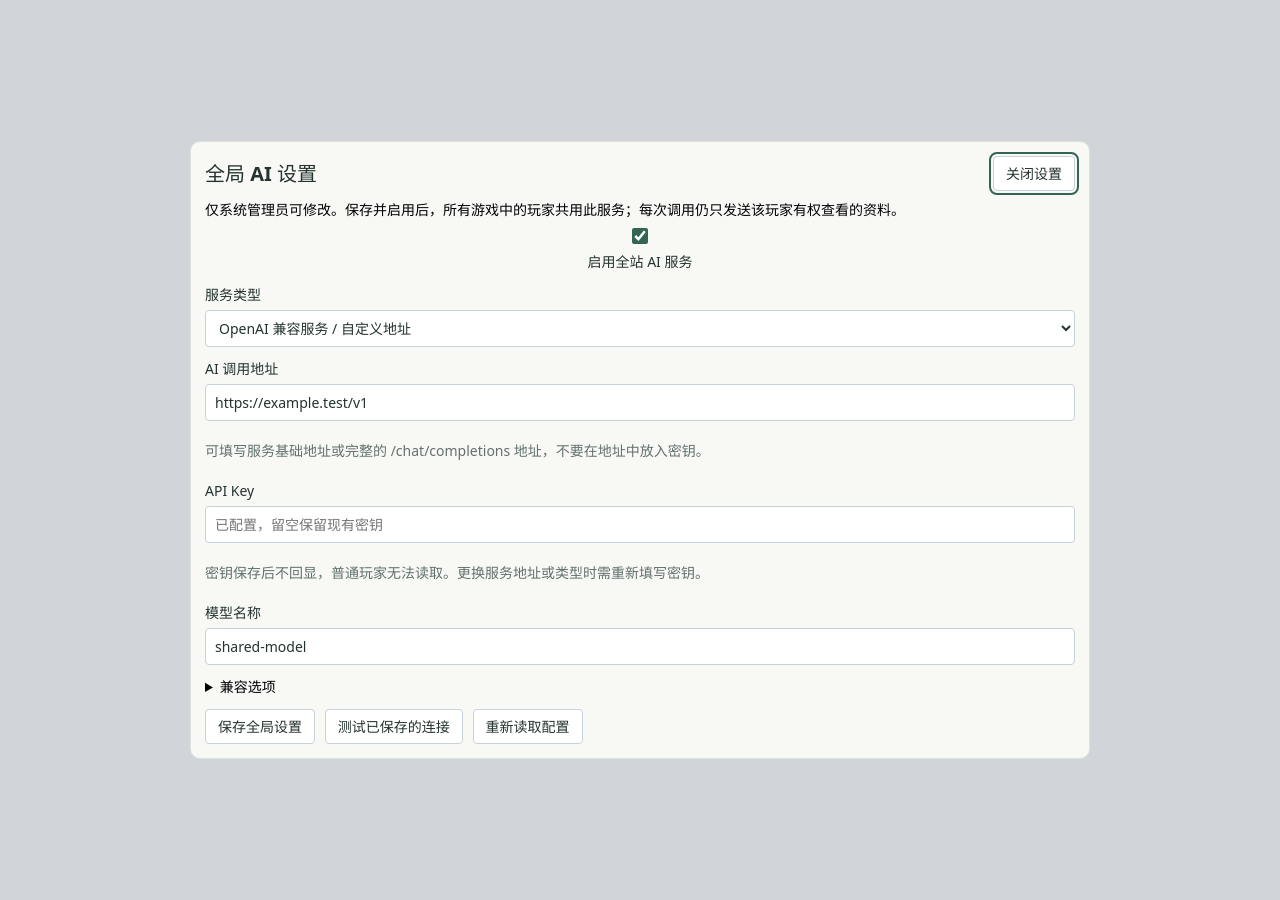
Test: clears a newly supplied key after saving and explicitly tests saved settings
Type "new-private-key" into the password field labelled "API Key" at (640, 524), box top-left (205, 506), bottom-right (1075, 543)
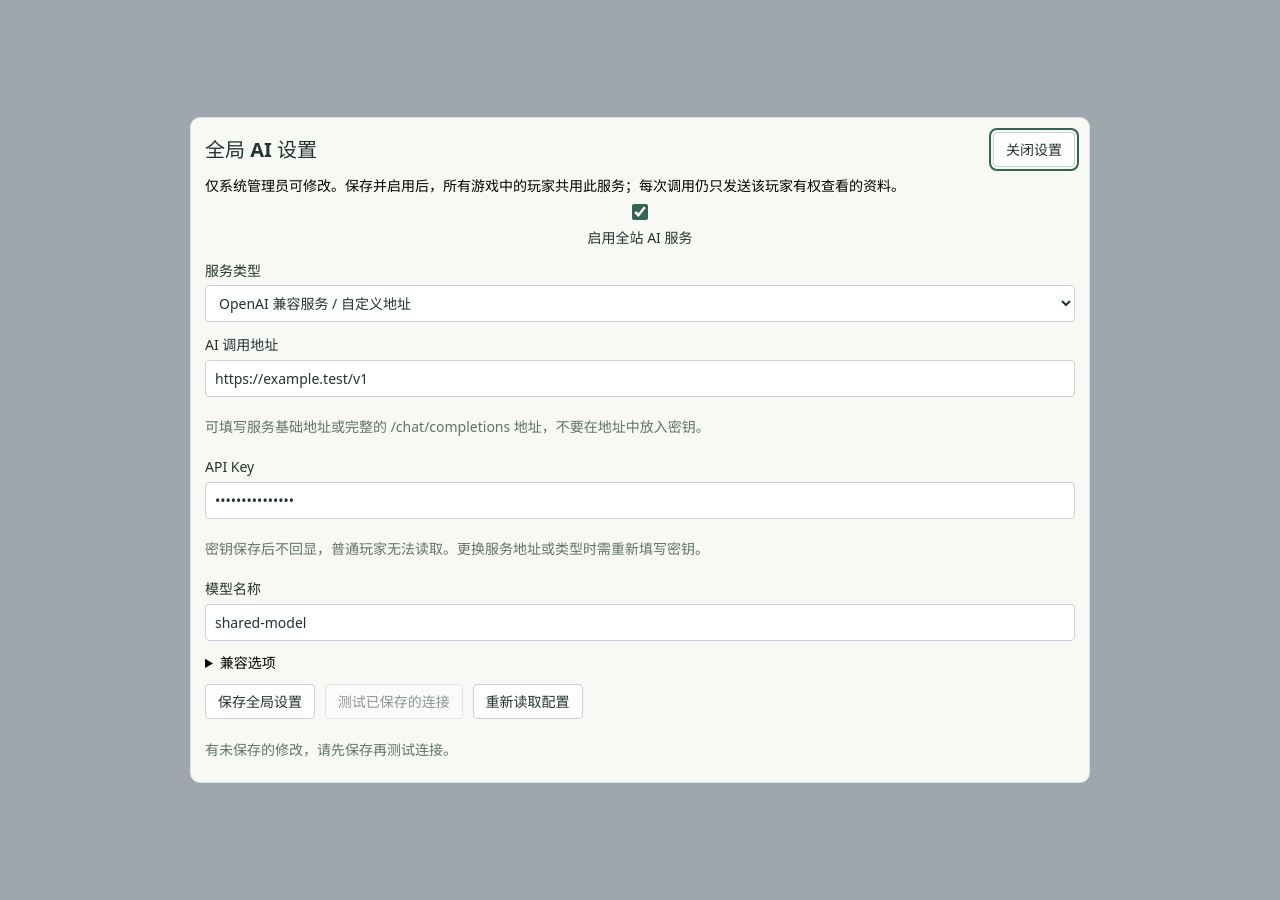
Click the button "保存全局设置" at (260, 702), box top-left (205, 684), bottom-right (315, 719)
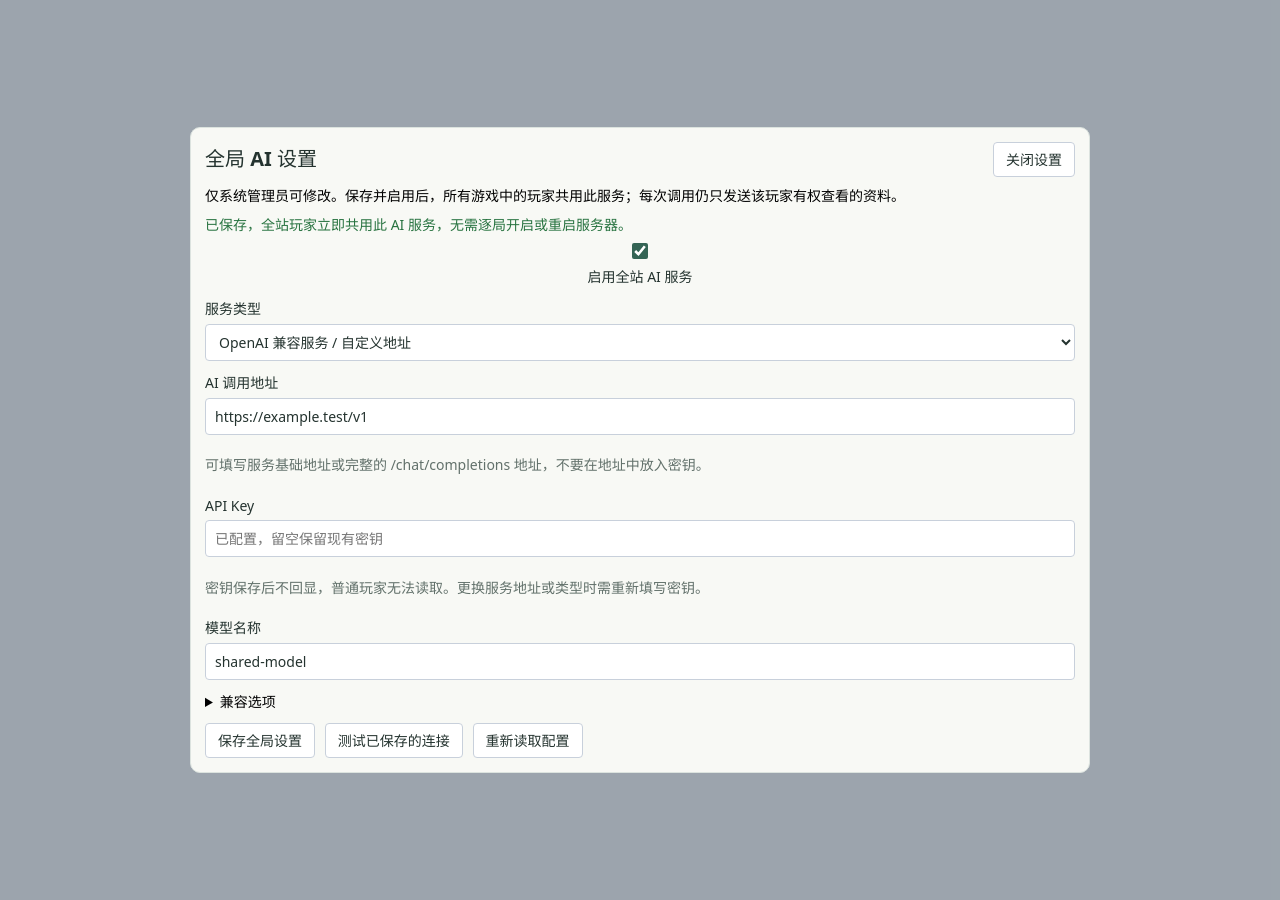
Expected: the text "已保存，全站玩家立即共用此 AI 服务，无需逐局开启或重启服务器。" is shown, top-left (205, 215), bottom-right (632, 234)
Expected: the password field labelled "API Key" is empty, top-left (205, 520), bottom-right (1075, 557)
Click the button "测试已保存的连接" at (394, 740), box top-left (325, 723), bottom-right (463, 758)
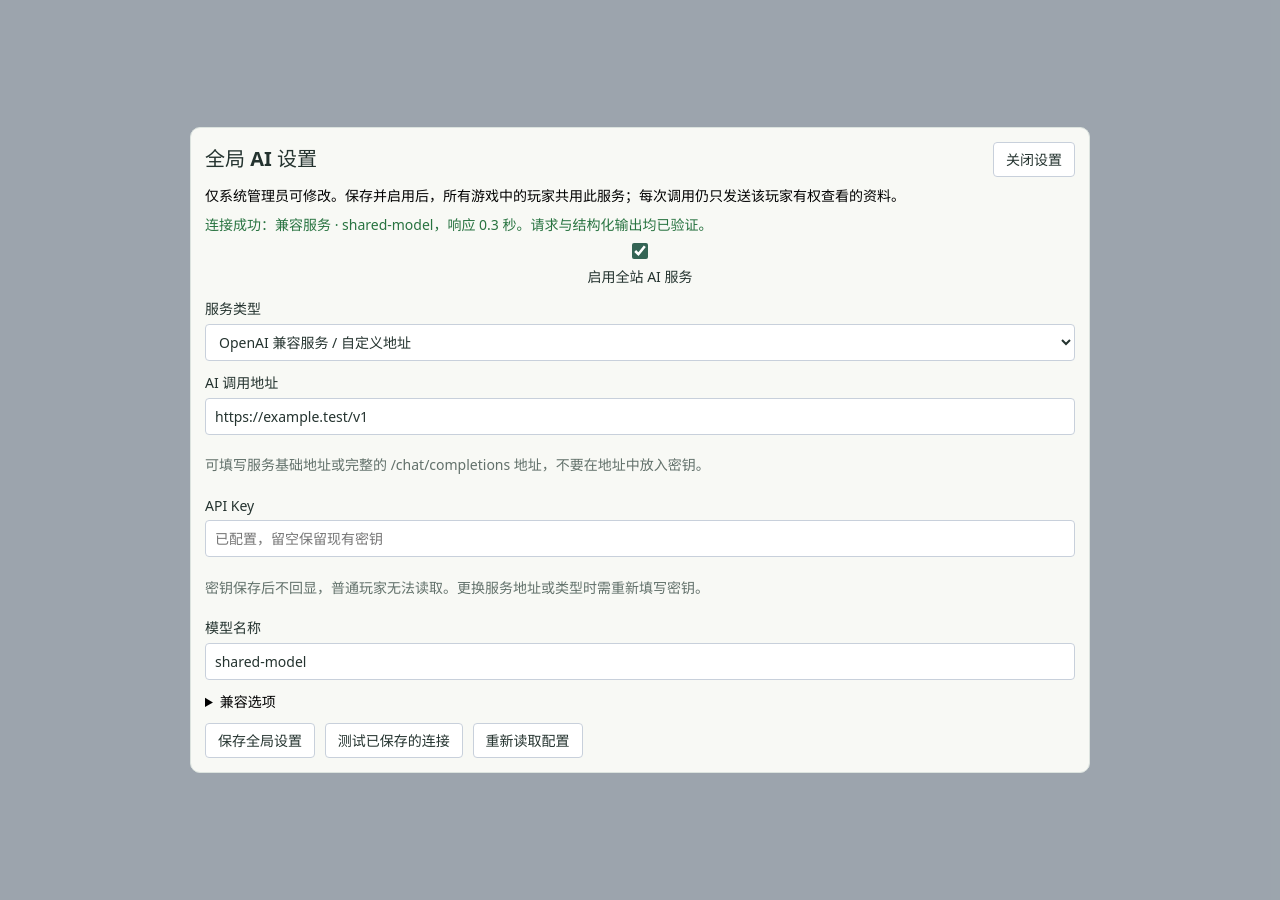
Expected: the text "连接成功：兼容服务 · shared-model，响应 0.3 秒。请求与结构化输出均已验证。" is shown, top-left (205, 215), bottom-right (712, 234)
